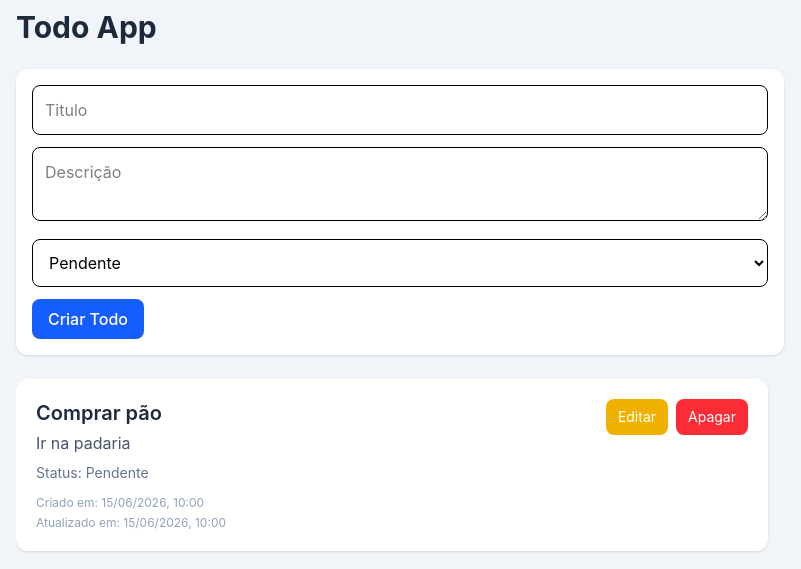
Test: Home › enters edit mode
Expected: the heading "Comprar pão" is shown, [36,401,162,425]
What coordinates should you click on to do the following:
click the button "Editar"
I would click on:
 (637, 417)
Its box is [606,399,668,435].
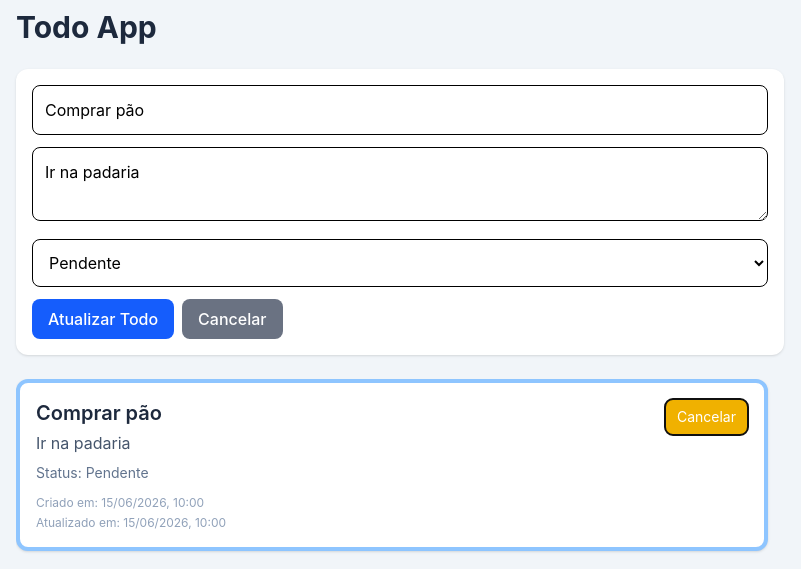
Expected: the button "Atualizar Todo" is shown, [32,299,174,339]
Expected: the field showing "Comprar pão" is shown, [32,85,768,135]
Expected: the text box showing "Ir na padaria" is shown, [32,147,768,221]
